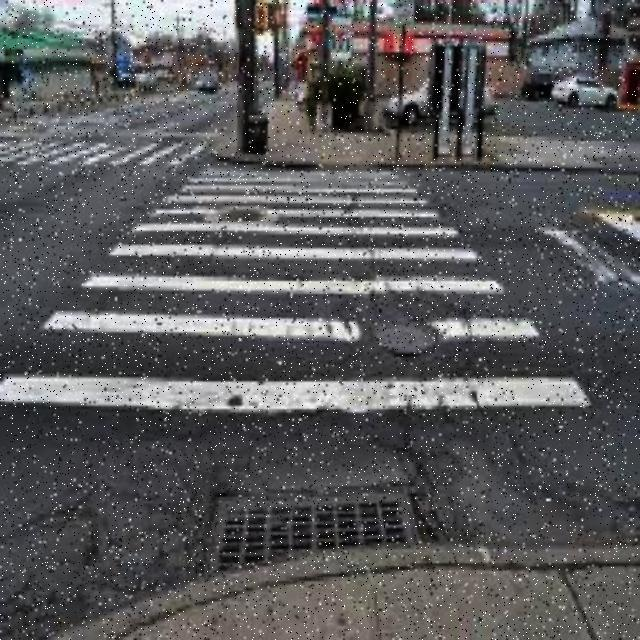Pedestrian crosswalk: (2, 161, 600, 417), (1, 130, 232, 179)
